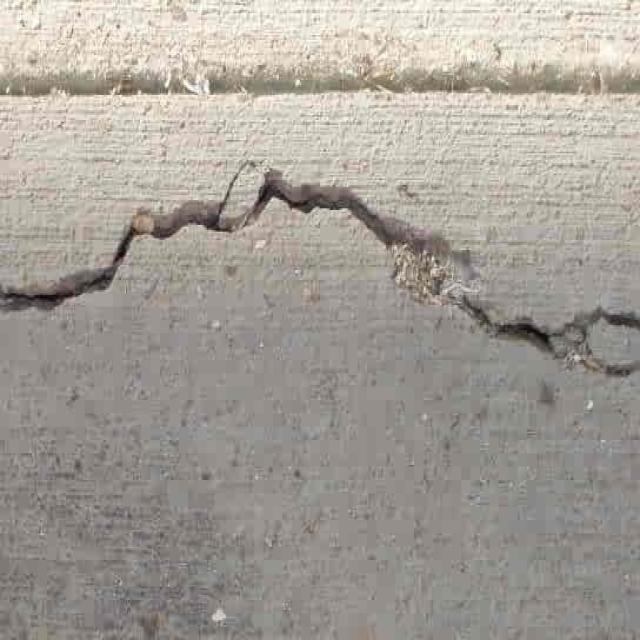Transverse: (0, 147, 640, 385)
